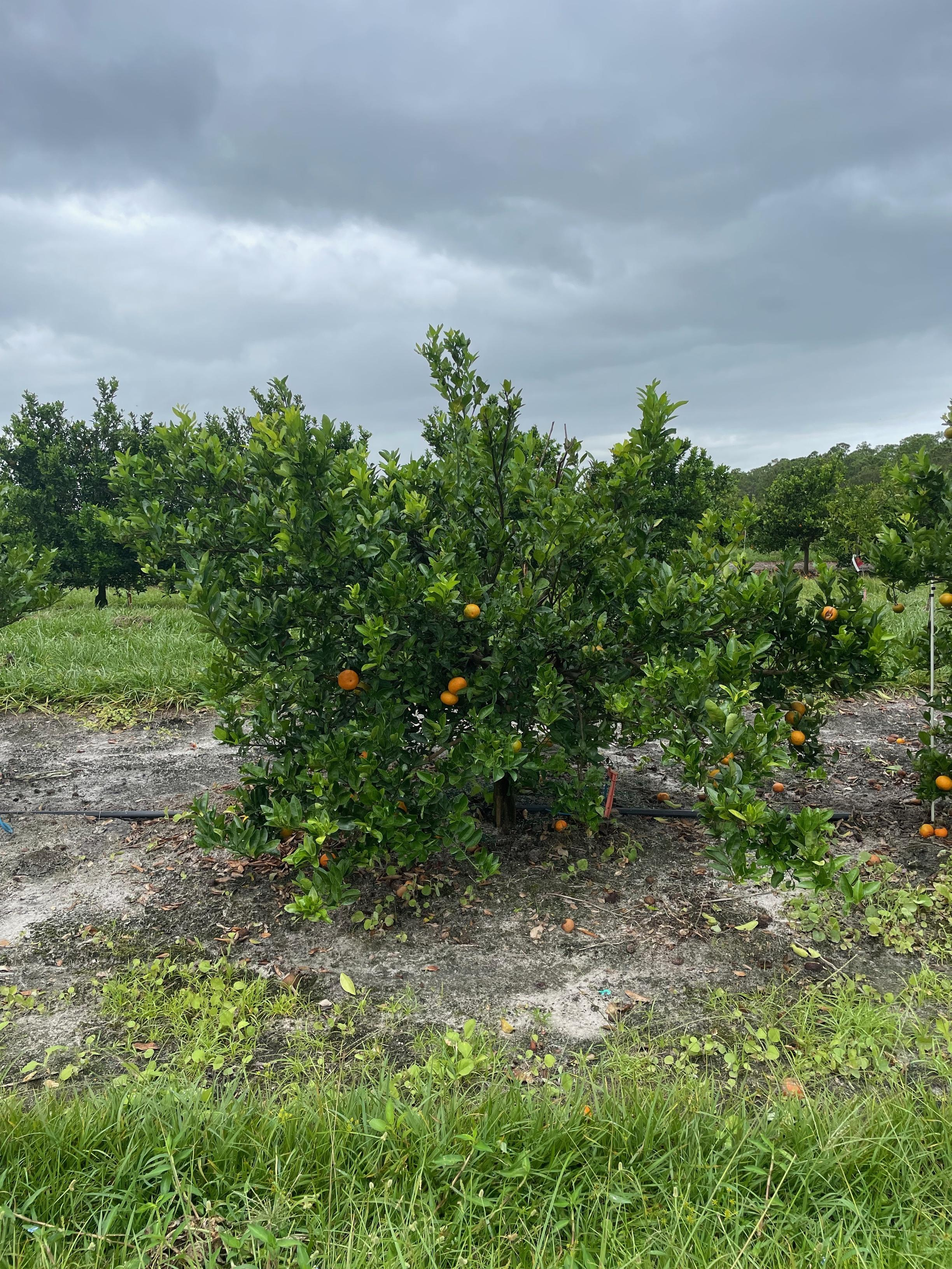fruit_on_ground: (337, 668, 360, 691), (818, 603, 840, 624), (446, 676, 469, 695), (461, 601, 482, 621), (439, 688, 460, 707), (934, 771, 952, 793), (787, 729, 807, 748), (787, 699, 808, 717), (718, 749, 736, 766), (784, 708, 802, 725), (277, 823, 295, 840), (508, 736, 524, 755), (937, 591, 952, 608), (891, 601, 906, 615), (942, 424, 952, 443)
fruit_on_tree: (778, 1075, 807, 1103), (318, 849, 339, 869), (917, 820, 935, 838), (552, 816, 570, 833), (864, 851, 881, 868), (539, 733, 556, 749), (560, 915, 576, 932), (933, 823, 950, 839), (656, 789, 671, 802), (771, 780, 786, 793), (895, 766, 908, 778), (695, 790, 708, 801), (895, 735, 908, 745)
